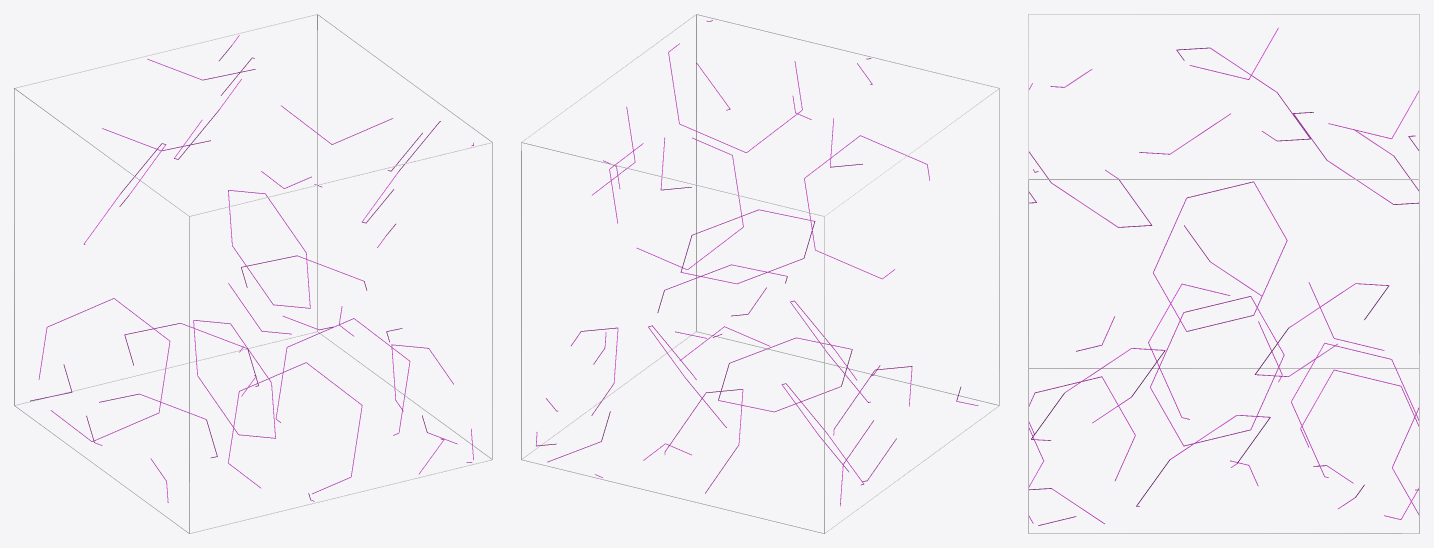
File: ddd000.glb
3 views of the same model, side by side, from view 1: azimuth 30°, elevation 25°; view 2: azimuth 150°, elevation 25°; view 3: azimuth 270°, elevation 25° (orthographic). The views are drawn at different scales.
Visible parts, largest first — view 1: Shape_IndexedLineSet.001, Shape_IndexedLineSet; view 2: Shape_IndexedLineSet.001, Shape_IndexedLineSet; view 3: Shape_IndexedLineSet.001, Shape_IndexedLineSet.
Part boxes in pixels (bbox=[...]): Shape_IndexedLineSet.001: bbox=[30, 35, 473, 502]; Shape_IndexedLineSet: bbox=[14, 14, 492, 533]; Shape_IndexedLineSet.001: bbox=[536, 20, 978, 506]; Shape_IndexedLineSet: bbox=[521, 14, 999, 533]; Shape_IndexedLineSet.001: bbox=[1029, 27, 1418, 525]; Shape_IndexedLineSet: bbox=[1028, 14, 1419, 533].
Bounding box in the file's own units: 10.02 × 10.02 × 10.02.
